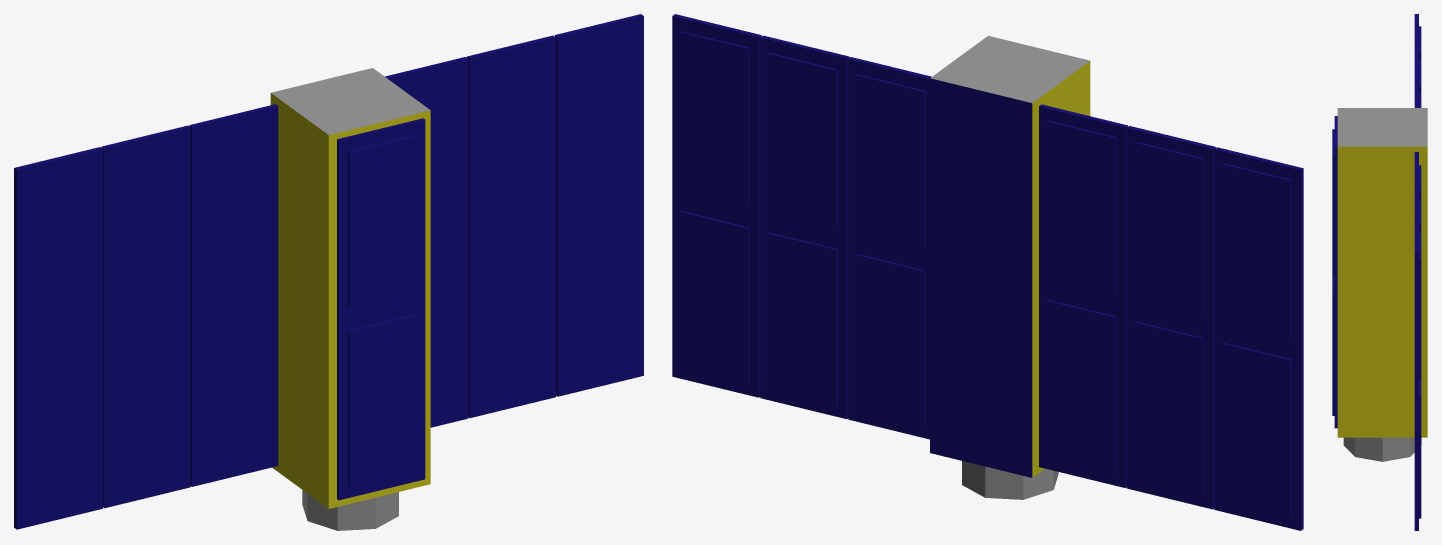
File: flock.obj
3 renders of one model, left to right at view 1: azimuth 30°, elevation 25°; view 2: azimuth 150°, elevation 25°; view 3: azimuth 270°, elevation 25°, orthographic. The views are drawn at different scales.
Visible parts, largest first — view 1: Cube.007, Cube.036, Cube.017, Cube.030, Cube.039, Cube.005, Cube.022, Cube.032, Cube.031, Cube.033, Cylinder.000; view 2: Cube.005, Cube.038, Cube.006, Cube.021, Cube.009, Cube.018, Cube.037, Cube.012, Cube.029, Cube.014, Cube.023, Cube.034 (+8 smaller); view 3: Cube.005, Cube.039, Cylinder.000, Cube.033, Cube.032, Cube.038, Cube.031, Cube.037, Cube.017, Cube.030, Cube.036, Cube.022 (+1 smaller).
Boxes of the visible parts, left/top/right/bottom form: Cube.007: left=189, top=104, right=278, bottom=486; Cube.036: left=14, top=147, right=102, bottom=529; Cube.017: left=101, top=125, right=190, bottom=508; Cube.030: left=467, top=35, right=555, bottom=418; Cube.039: left=555, top=14, right=643, bottom=396; Cube.005: left=270, top=68, right=430, bottom=508; Cube.022: left=385, top=57, right=468, bottom=427; Cube.032: left=348, top=135, right=417, bottom=308; Cube.031: left=348, top=314, right=417, bottom=487; Cube.033: left=337, top=118, right=425, bottom=500; Cylinder.000: left=302, top=490, right=398, bottom=530; Cube.005: left=930, top=35, right=1090, bottom=477; Cube.038: left=679, top=31, right=749, bottom=205; Cube.006: left=1046, top=120, right=1116, bottom=294; Cube.021: left=855, top=74, right=925, bottom=248; Cube.009: left=1046, top=300, right=1116, bottom=473; Cube.018: left=855, top=253, right=925, bottom=427; Cube.037: left=679, top=211, right=749, bottom=384; Cube.012: left=1134, top=141, right=1203, bottom=315; Cube.029: left=768, top=52, right=837, bottom=226; Cube.014: left=1134, top=321, right=1203, bottom=495; Cube.023: left=768, top=232, right=837, bottom=406; Cube.034: left=1222, top=163, right=1291, bottom=337; Cube.005: left=1337, top=108, right=1427, bottom=437; Cube.039: left=1414, top=218, right=1418, bottom=530; Cylinder.000: left=1343, top=437, right=1421, bottom=461; Cube.033: left=1334, top=116, right=1337, bottom=428; Cube.032: left=1332, top=129, right=1334, bottom=276; Cube.038: left=1419, top=232, right=1421, bottom=379; Cube.031: left=1332, top=276, right=1334, bottom=415; Cube.037: left=1419, top=379, right=1421, bottom=518; Cube.017: left=1414, top=47, right=1418, bottom=80; Cube.030: left=1414, top=185, right=1418, bottom=218; Cube.036: left=1414, top=14, right=1418, bottom=47; Cube.022: left=1414, top=152, right=1418, bottom=184.
Size of the model in its own units: 0.66 by 0.4115 by 0.1118.
